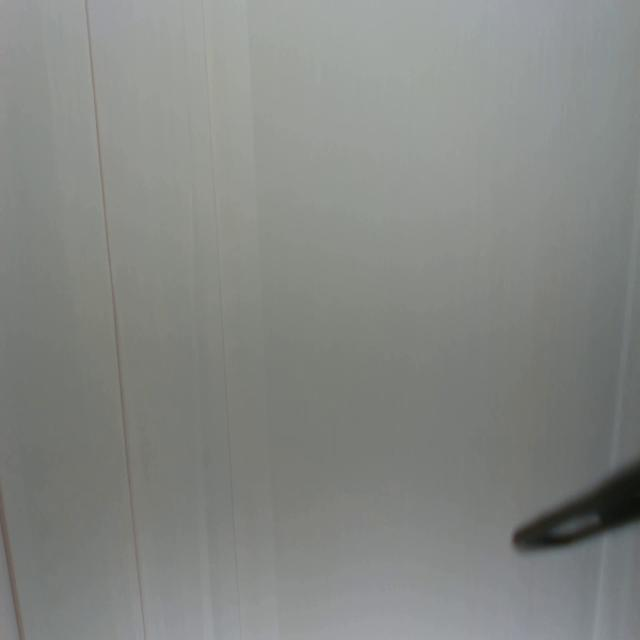crease: (85, 0, 148, 640), (202, 4, 242, 636), (0, 492, 24, 640)
